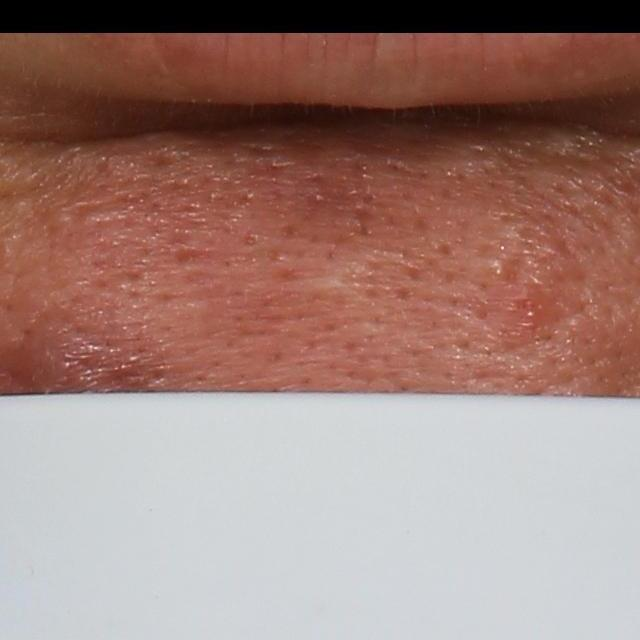comedo: (482, 252, 520, 290), (240, 228, 261, 252)
